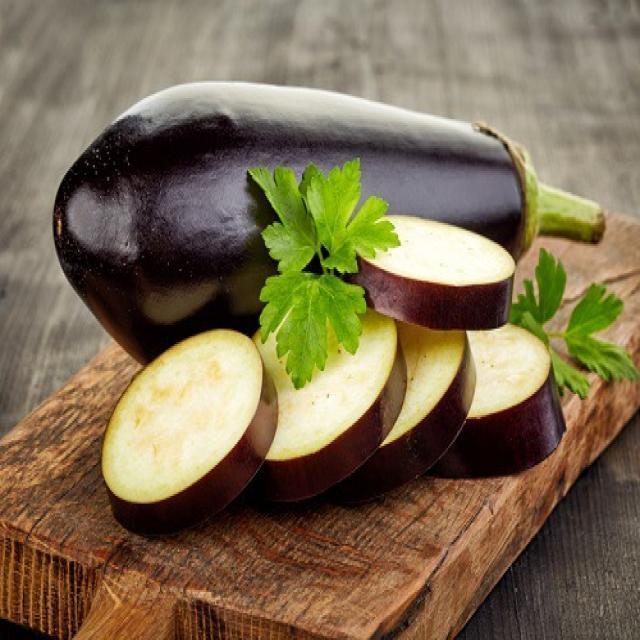eggplant: (197, 246, 576, 506), (90, 295, 286, 528), (332, 194, 554, 328)
